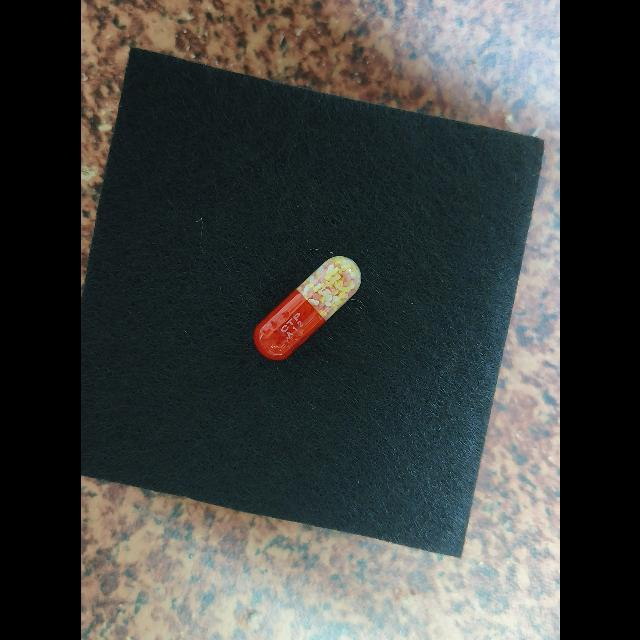Intact Capsule: (253, 256, 361, 360)
